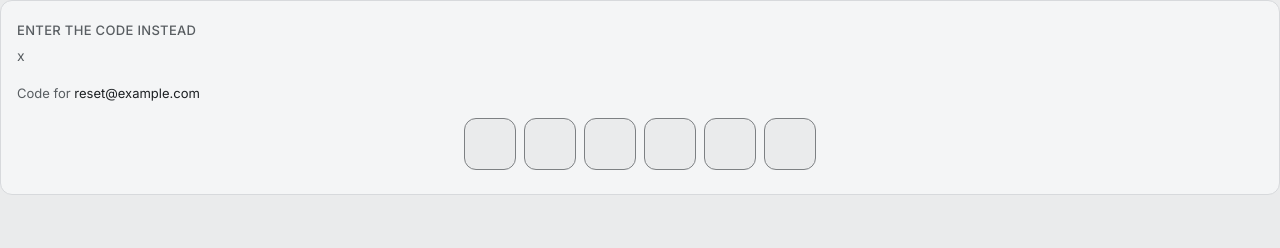
#190 — the muted note beneath the pill › uses the recovery caller's words
Type "1" into the field named "Digit 1" at (490, 144), box [464,118,516,170]
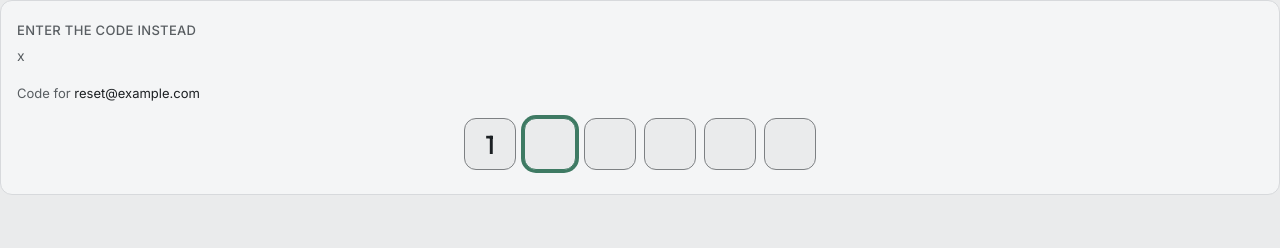
Type "2" into the field named "Digit 2" at (550, 144), box [524,118,576,170]
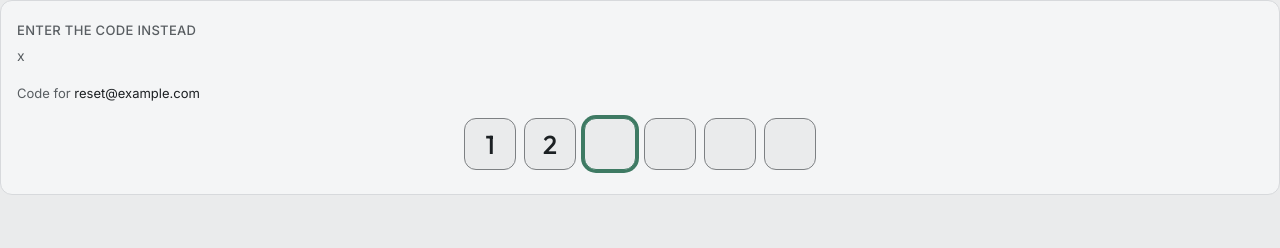
Type "3" into the field named "Digit 3" at (610, 144), box [584,118,636,170]
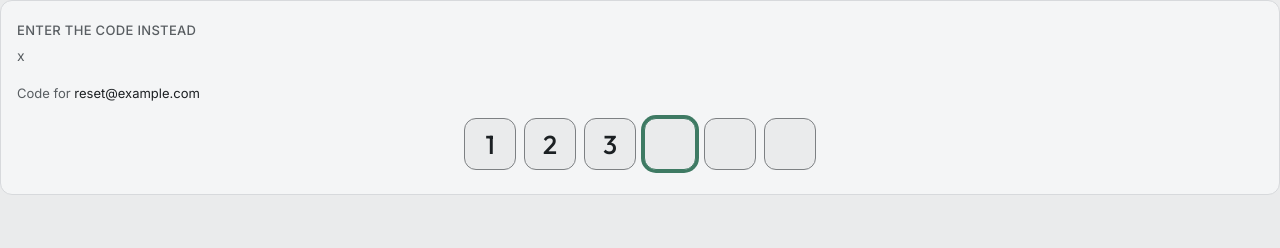
Type "4" into the field named "Digit 4" at (670, 144), box [644,118,696,170]
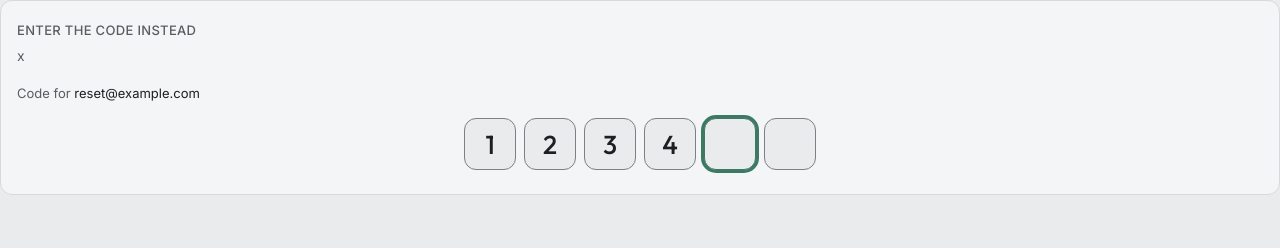
Type "5" into the field named "Digit 5" at (730, 144), box [704,118,756,170]
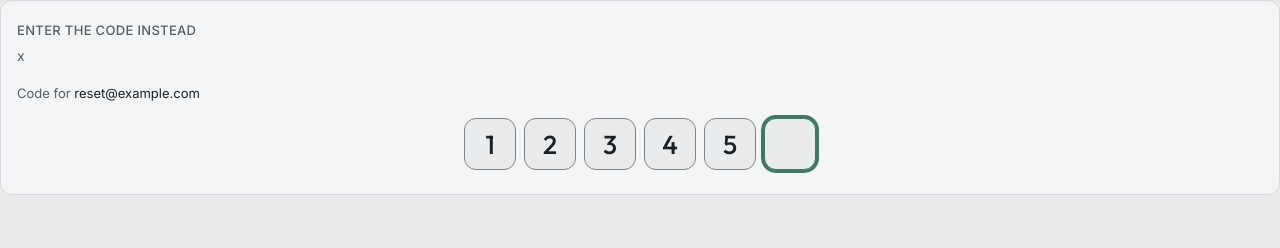
Type "6" into the field named "Digit 6" at (790, 144), box [764,118,816,170]
Wait 2940 ms
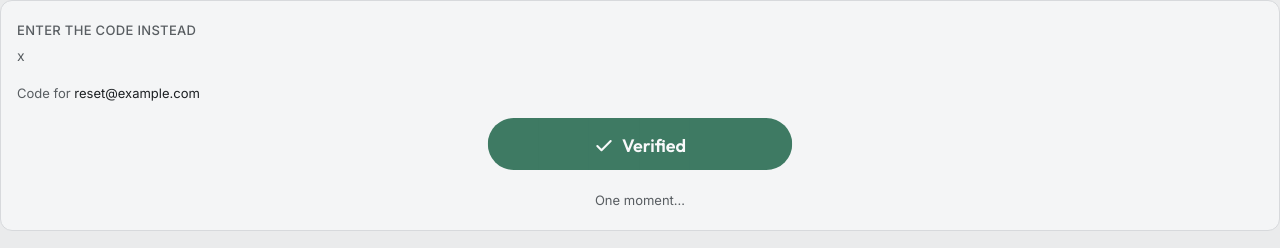
Expected: the text "One moment…" is shown, [595,191,685,209]
